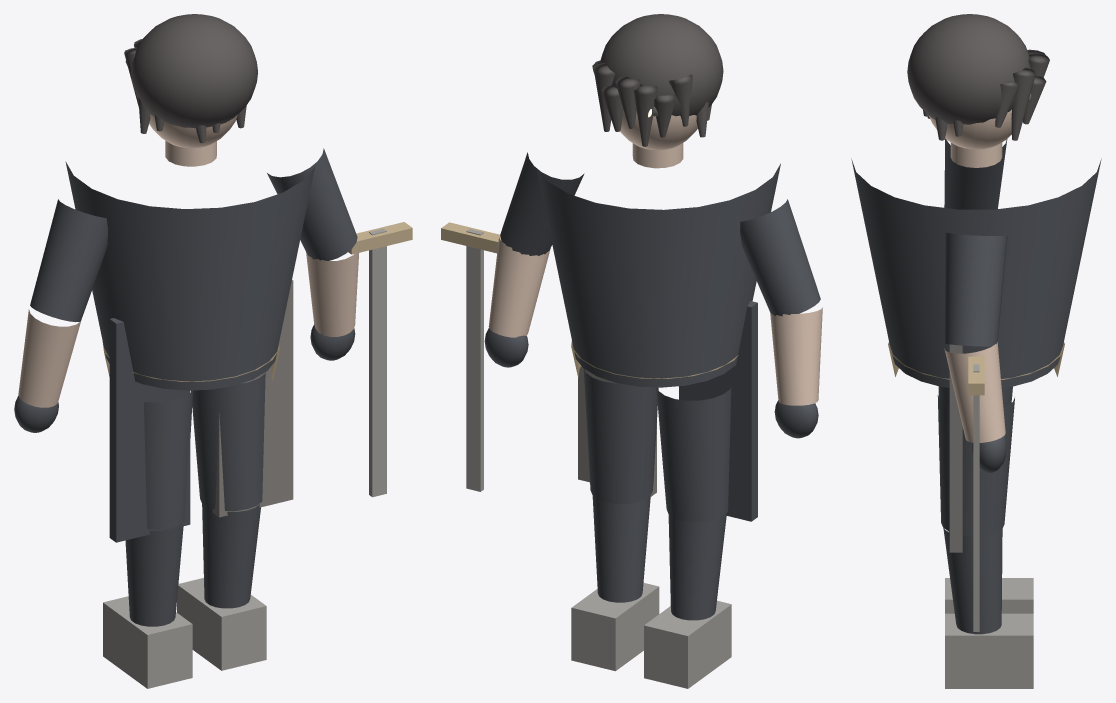
File: maru-procedural-v1.glb
3 views of the same model, side by side, from view 1: azimuth 30°, elevation 25°; view 2: azimuth 150°, elevation 25°; view 3: azimuth 270°, elevation 25° (orthographic). The views are drawn at different scales.
Visible parts, largest first — view 1: Outfit_Torso, Hair_Cap, Outfit_CoatTail_L, Body_Thigh_R, Body_UpperArm_L, Outfit_CoatTail_R, Outfit_Boot_L, Body_Thigh_L, Outfit_Boot_R, Body_Shin_R, Body_Shin_L, Weapon_SwordBlade (+8 smaller); view 2: Outfit_Torso, Body_Thigh_L, Body_Thigh_R, Hair_Cap, Outfit_CoatTail_L, Body_UpperArm_L, Outfit_Boot_L, Outfit_Boot_R, Body_Shin_R, Body_Shin_L, Weapon_SwordBlade, Body_Forearm_L (+14 smaller); view 3: Outfit_Torso, Hair_Cap, Body_UpperArm_R, Outfit_Boot_R, Body_Thigh_R, Body_Shin_R, Body_Forearm_R, Body_UpperArm_L, Outfit_CoatTail_R, Weapon_SwordBlade, Body_Head, Outfit_Boot_L (+8 smaller).
Boxes of the visible parts, x1=… form: Outfit_Torso: x1=65, y1=161, x2=315, y2=390; Hair_Cap: x1=131, y1=14, x2=257, y2=128; Outfit_CoatTail_L: x1=109, y1=318, x2=190, y2=542; Body_Thigh_R: x1=191, y1=372, x2=265, y2=510; Body_UpperArm_L: x1=30, y1=199, x2=107, y2=322; Outfit_CoatTail_R: x1=212, y1=280, x2=293, y2=517; Outfit_Boot_L: x1=103, y1=596, x2=192, y2=688; Body_Thigh_L: x1=144, y1=390, x2=192, y2=529; Outfit_Boot_R: x1=177, y1=578, x2=266, y2=670; Body_Shin_R: x1=202, y1=503, x2=260, y2=608; Body_Shin_L: x1=125, y1=523, x2=183, y2=626; Weapon_SwordBlade: x1=369, y1=228, x2=386, y2=497; Outfit_Torso: x1=536, y1=163, x2=780, y2=387; Body_Thigh_L: x1=656, y1=387, x2=731, y2=522; Body_Thigh_R: x1=583, y1=369, x2=658, y2=503; Hair_Cap: x1=600, y1=14, x2=723, y2=116; Outfit_CoatTail_L: x1=679, y1=301, x2=757, y2=521; Body_UpperArm_L: x1=740, y1=199, x2=820, y2=316; Outfit_Boot_L: x1=644, y1=600, x2=731, y2=688; Outfit_Boot_R: x1=571, y1=583, x2=659, y2=671; Body_Shin_R: x1=592, y1=495, x2=650, y2=602; Body_Shin_L: x1=668, y1=514, x2=726, y2=620; Weapon_SwordBlade: x1=466, y1=229, x2=483, y2=491; Body_Forearm_L: x1=770, y1=307, x2=822, y2=405; Outfit_Torso: x1=851, y1=158, x2=1101, y2=387; Hair_Cap: x1=907, y1=14, x2=1030, y2=124; Body_UpperArm_R: x1=944, y1=232, x2=1007, y2=346; Outfit_Boot_R: x1=945, y1=613, x2=1033, y2=688; Body_Thigh_R: x1=937, y1=395, x2=1014, y2=536; Body_Shin_R: x1=943, y1=528, x2=1002, y2=634; Body_Forearm_R: x1=944, y1=342, x2=1005, y2=442; Body_UpperArm_L: x1=944, y1=138, x2=1007, y2=209; Outfit_CoatTail_R: x1=949, y1=344, x2=962, y2=552; Weapon_SwordBlade: x1=973, y1=364, x2=979, y2=631; Body_Head: x1=928, y1=109, x2=1011, y2=149; Outfit_Boot_L: x1=945, y1=578, x2=1033, y2=613.
Size of the model in its own units: 1.2 by 1.91 by 0.68.
